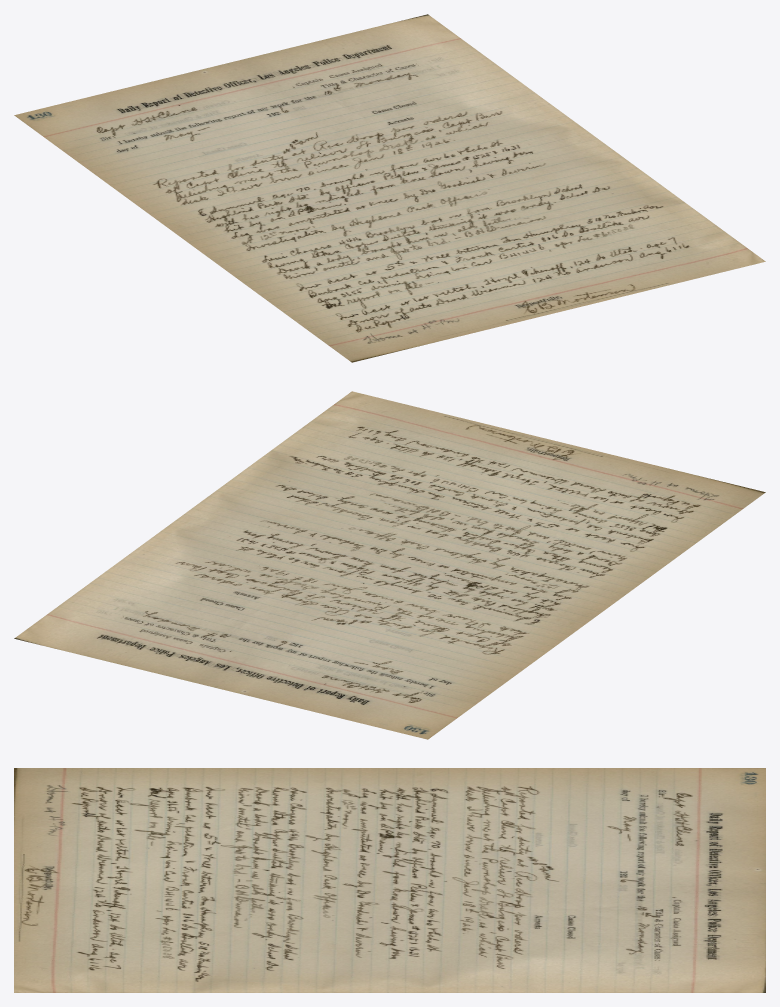
Rendered from fullyCrumpled1.gltf.
3 renders of one model, top to bottom at view 1: azimuth 30°, elevation 25°; view 2: azimuth 150°, elevation 25°; view 3: azimuth 270°, elevation 25°, orthographic. The views are drawn at different scales.
Visible parts, largest first — view 1: Plane; view 2: Plane; view 3: Plane.
Boxes of the visible parts, x1,y1,x2,y2 form: Plane: (14,14,765,362); Plane: (14,391,765,739); Plane: (14,768,765,992).
Bounding box in the file's own units: 4.2 × 0 × 5.94.
Materials: 1 (1 with a texture image).
